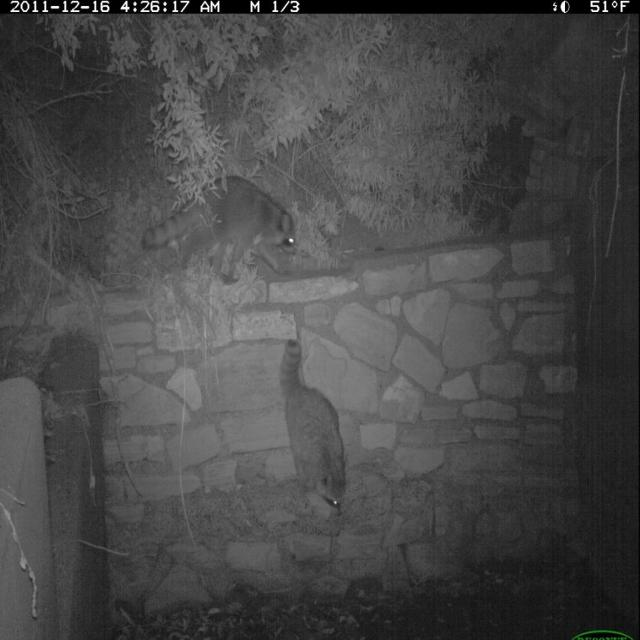raccoon: (273, 335, 375, 548), (139, 165, 307, 288)
